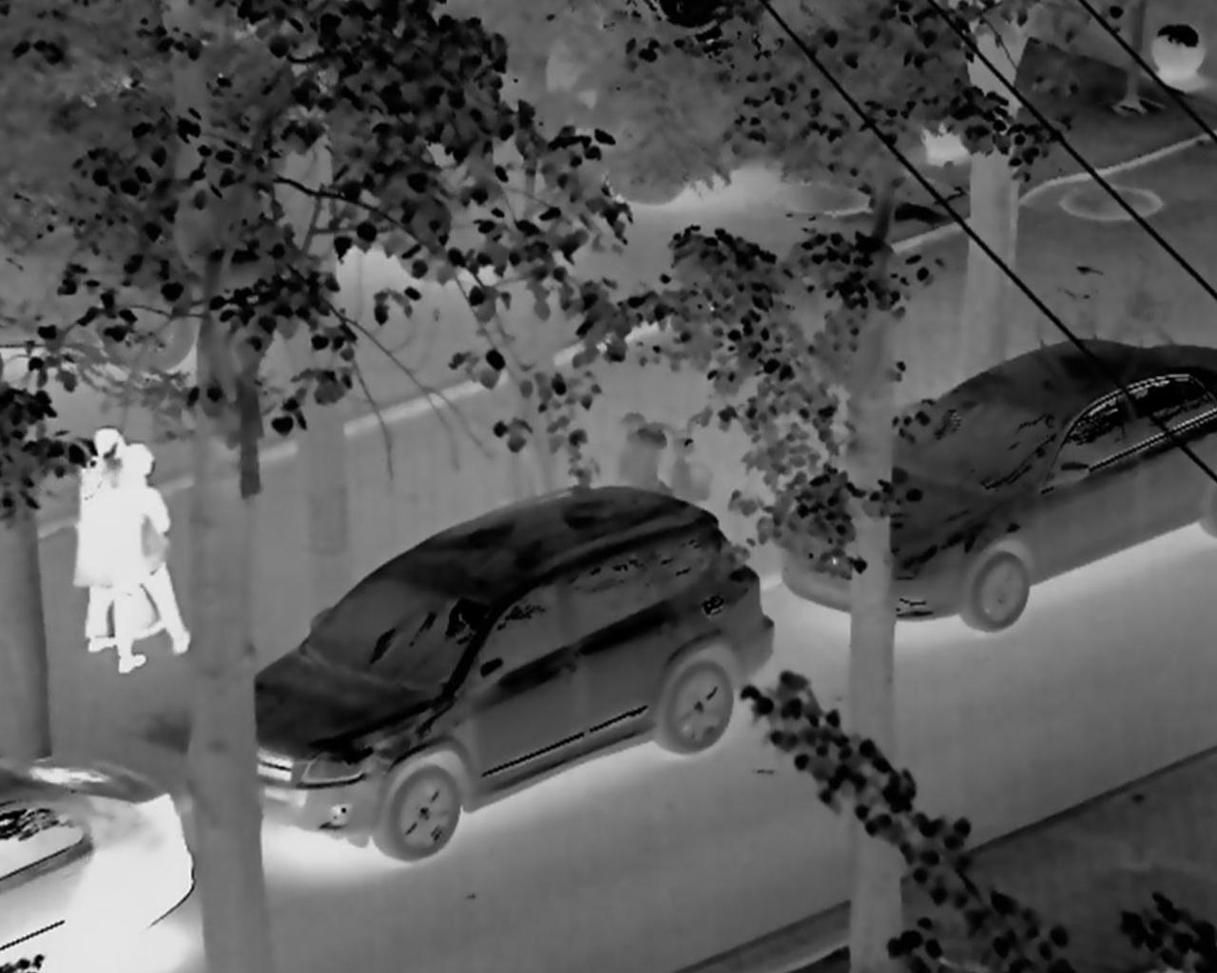person: (110, 437, 193, 675), (60, 407, 136, 662)
